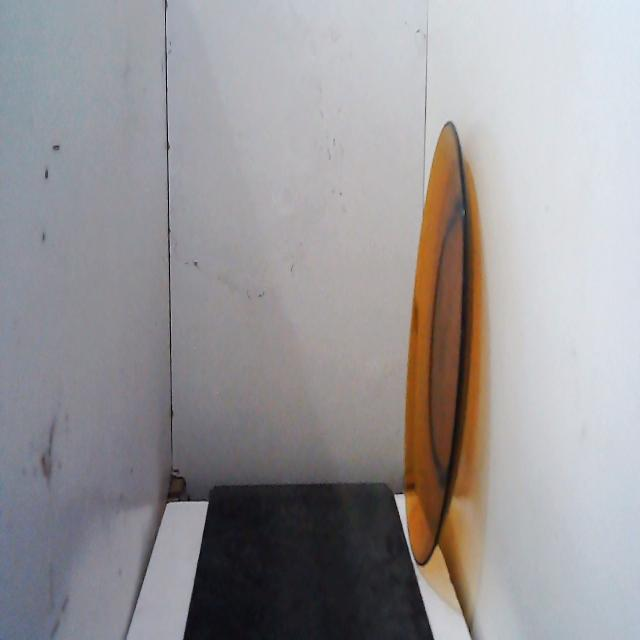vidro: (395, 111, 475, 574)
